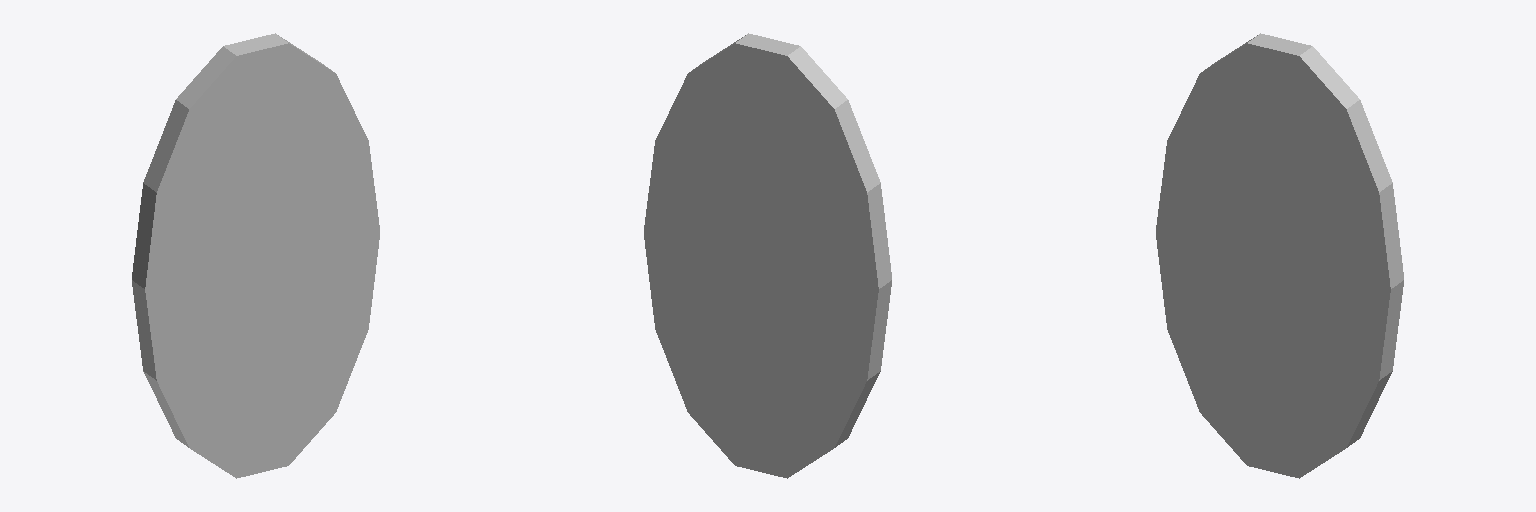
File: paddle.obj
3 views of the same model, side by side, from view 1: azimuth 30°, elevation 25°; view 2: azimuth 150°, elevation 25°; view 3: azimuth 330°, elevation 25° (orthographic).
Parts seen in each view (by area): view 1: Cylinder_Cylinder.002; view 2: Cylinder_Cylinder.002; view 3: Cylinder_Cylinder.002.
Boxes of the visible parts, <box> form: Cylinder_Cylinder.002: <box>132,33,379,478</box>; Cylinder_Cylinder.002: <box>644,33,891,478</box>; Cylinder_Cylinder.002: <box>1156,33,1403,478</box>.
Bounding box in the file's own units: 0.4642 × 0.7966 × 0.0464.